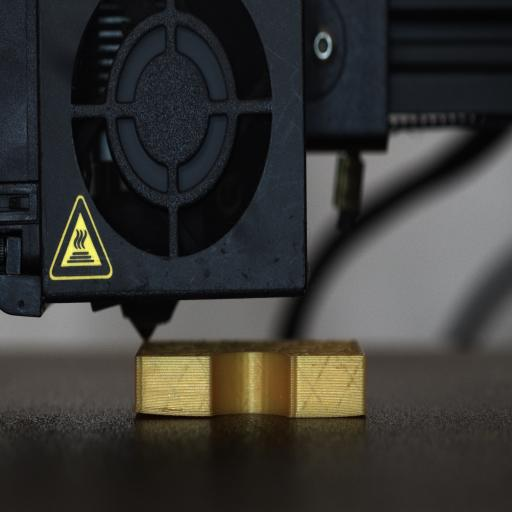warp: (127, 401, 191, 425), (323, 405, 369, 425)
